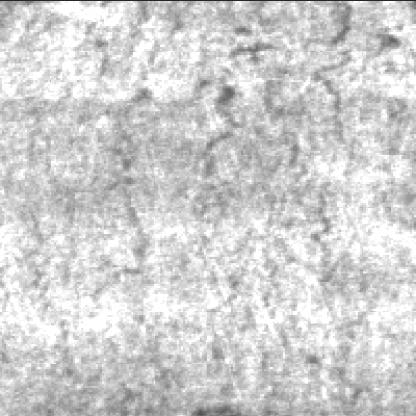crazing: (81, 38, 364, 322)
